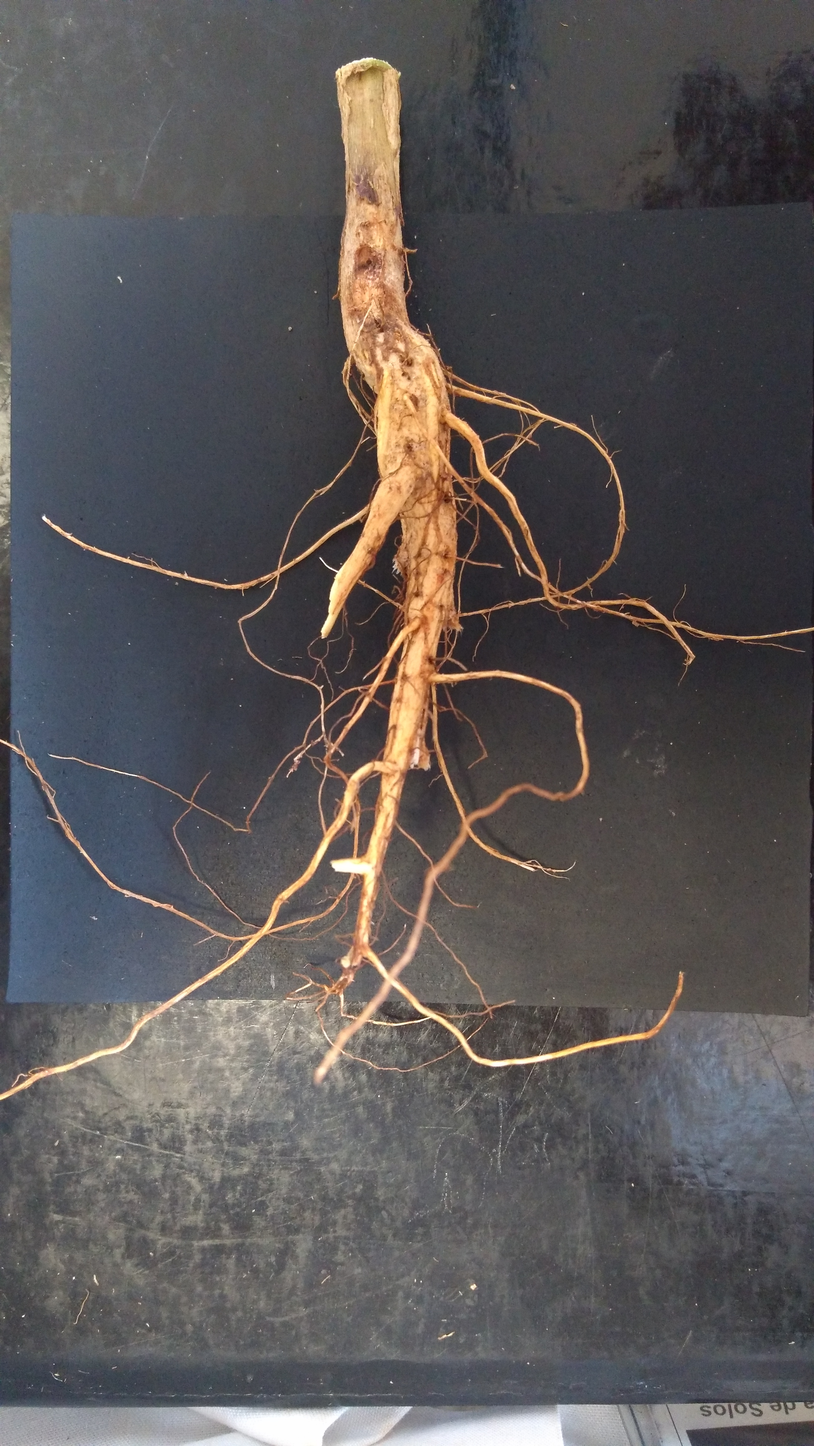nodule: (409, 727, 431, 770), (442, 604, 463, 631), (346, 945, 363, 967), (394, 547, 408, 568), (339, 969, 354, 983), (340, 955, 351, 969), (344, 356, 354, 370), (292, 762, 298, 771), (632, 620, 639, 627), (403, 247, 410, 253), (676, 622, 681, 627)
